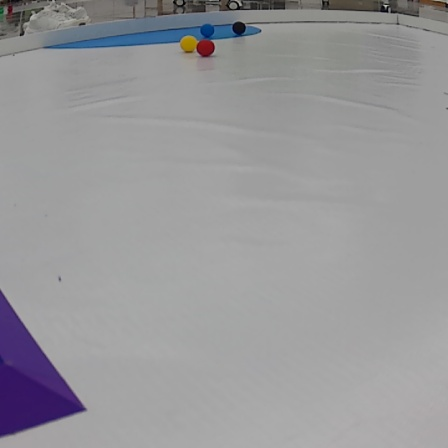black: (230, 20, 249, 34)
blue: (201, 24, 214, 37)
blue_base: (44, 20, 264, 47)
red: (195, 37, 217, 55)
yellow: (180, 37, 196, 52)
